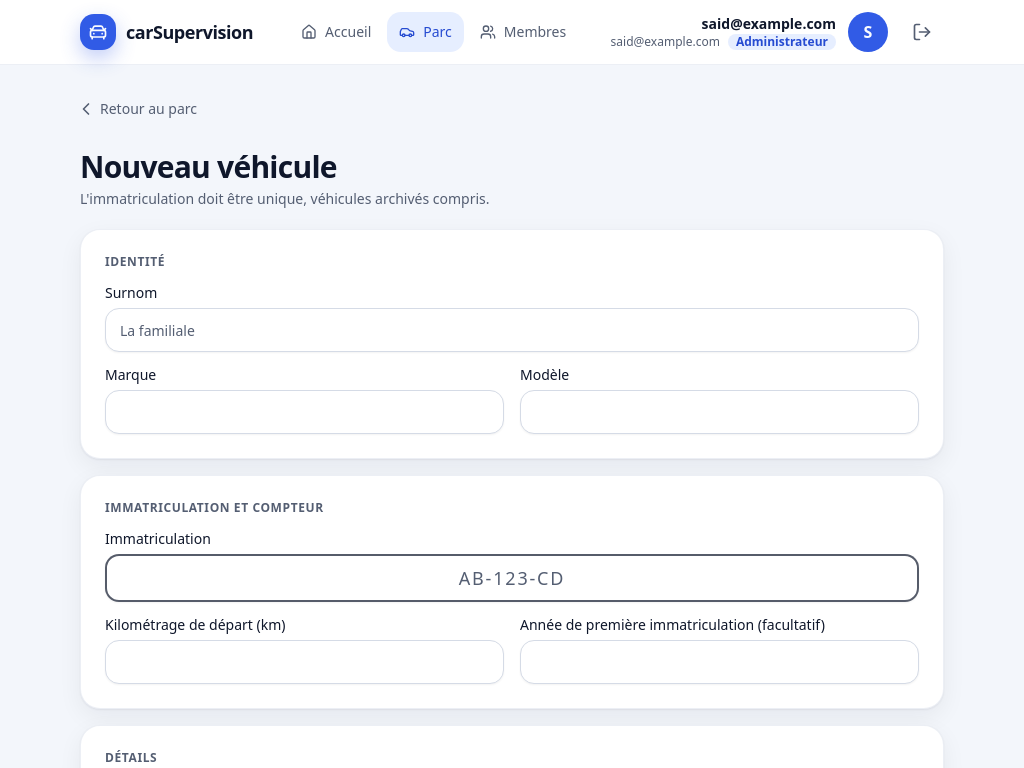
Test case: parc de véhicules › affiche le doublon d’immatriculation sous le champ sans perdre la saisie
In the field labelled "Surnom": (512, 330) x1=105 y1=308 x2=919 y2=352, type "Citadine"
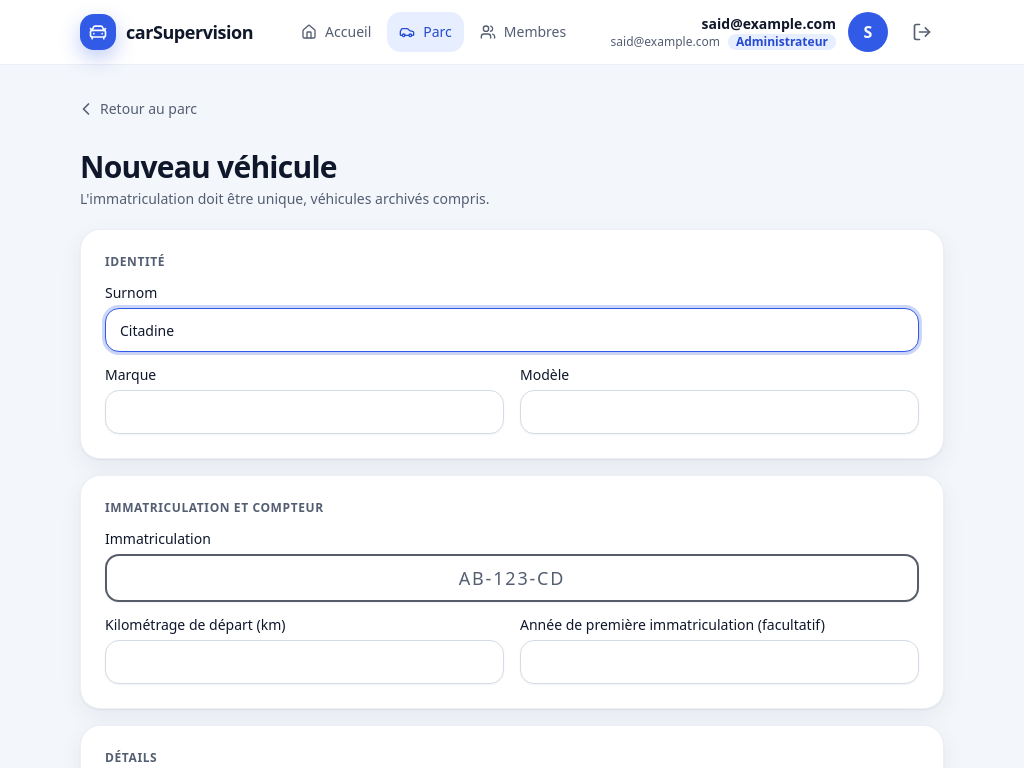
In the field labelled "Marque": (304, 412) x1=105 y1=390 x2=504 y2=434, type "Renault"
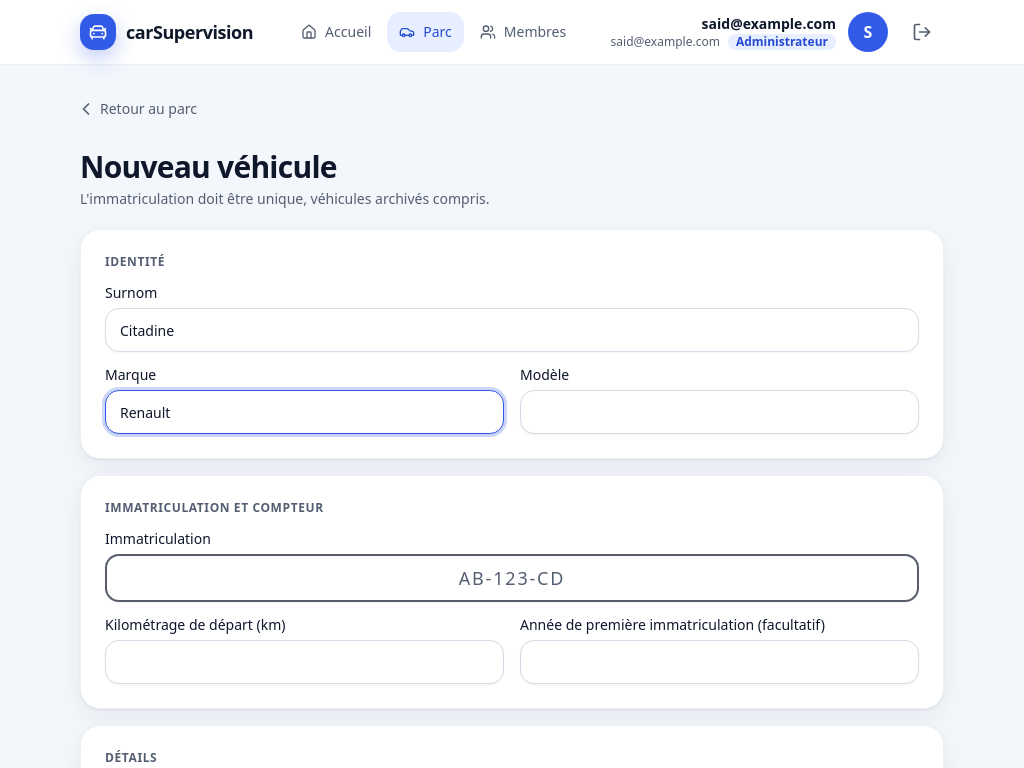
In the field labelled "Modèle": (720, 412) x1=520 y1=390 x2=919 y2=434, type "Clio"
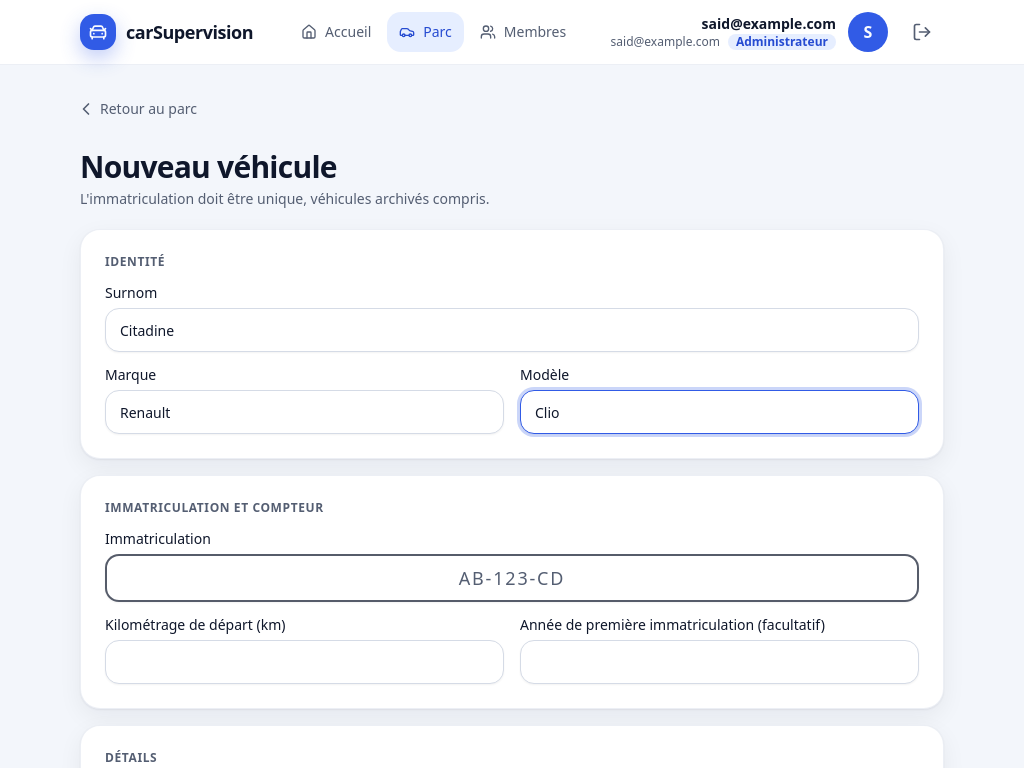
In the field labelled "Immatriculation": (512, 578) x1=105 y1=554 x2=919 y2=602, type "ab-123 cd"
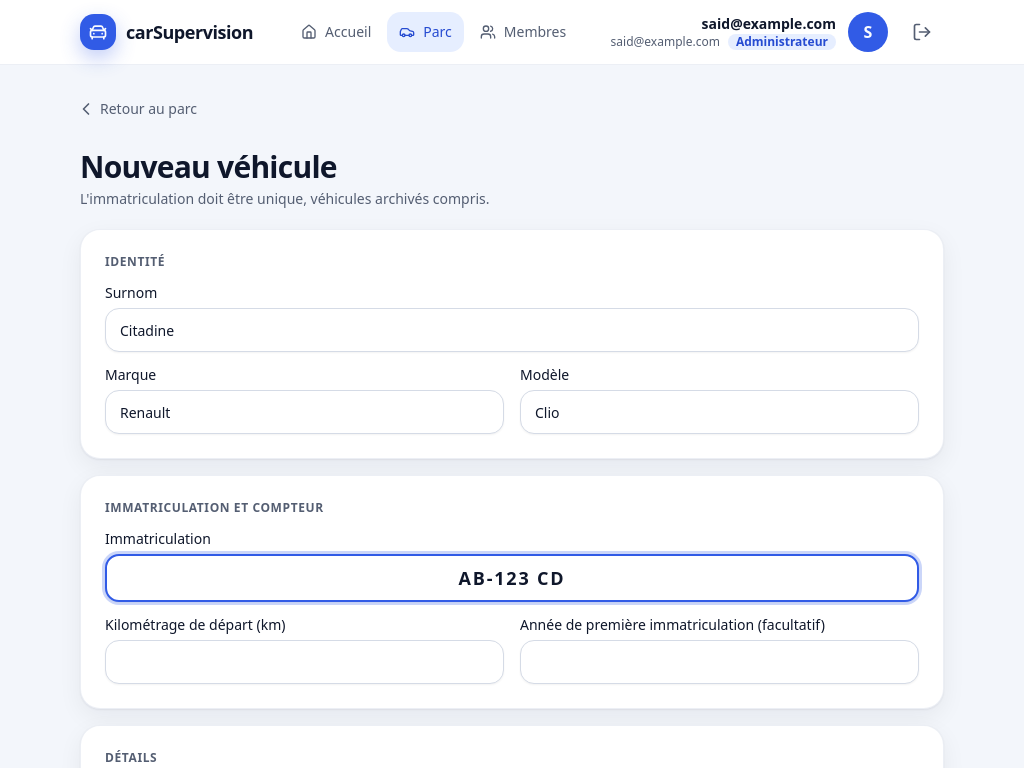
In the field labelled "Kilométrage de départ (km)": (304, 662) x1=105 y1=640 x2=504 y2=684, type "12000"
(page scrolled)
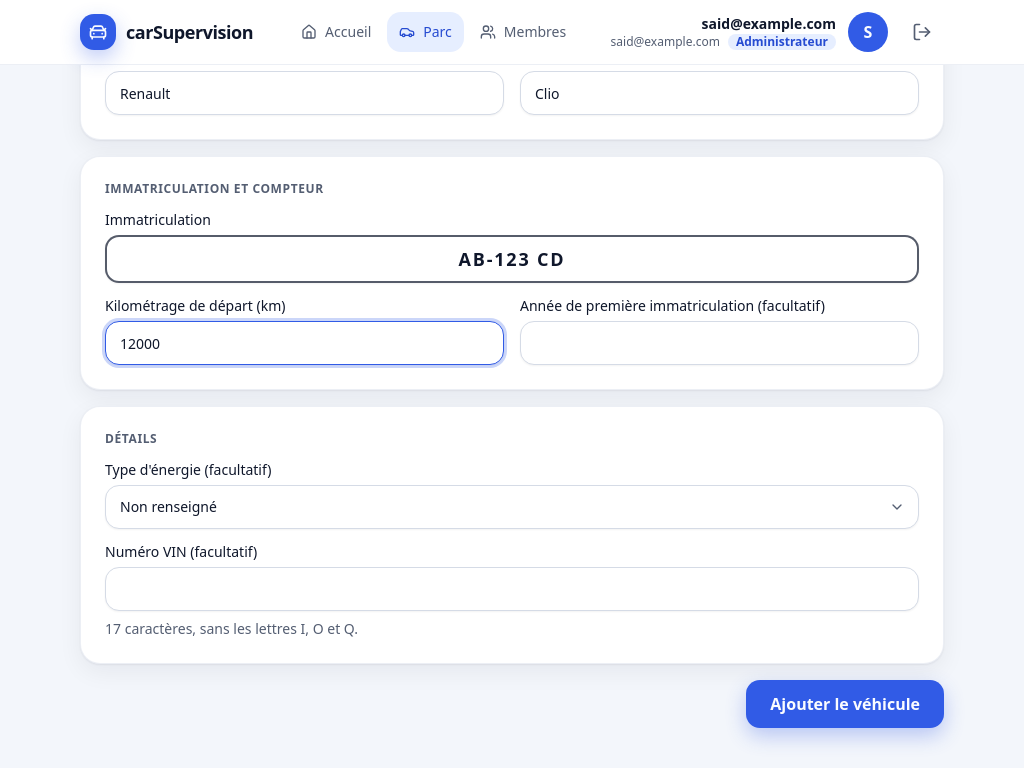
Click the button "Ajouter le véhicule": click(845, 704) x1=746 y1=680 x2=944 y2=728
(page scrolled)
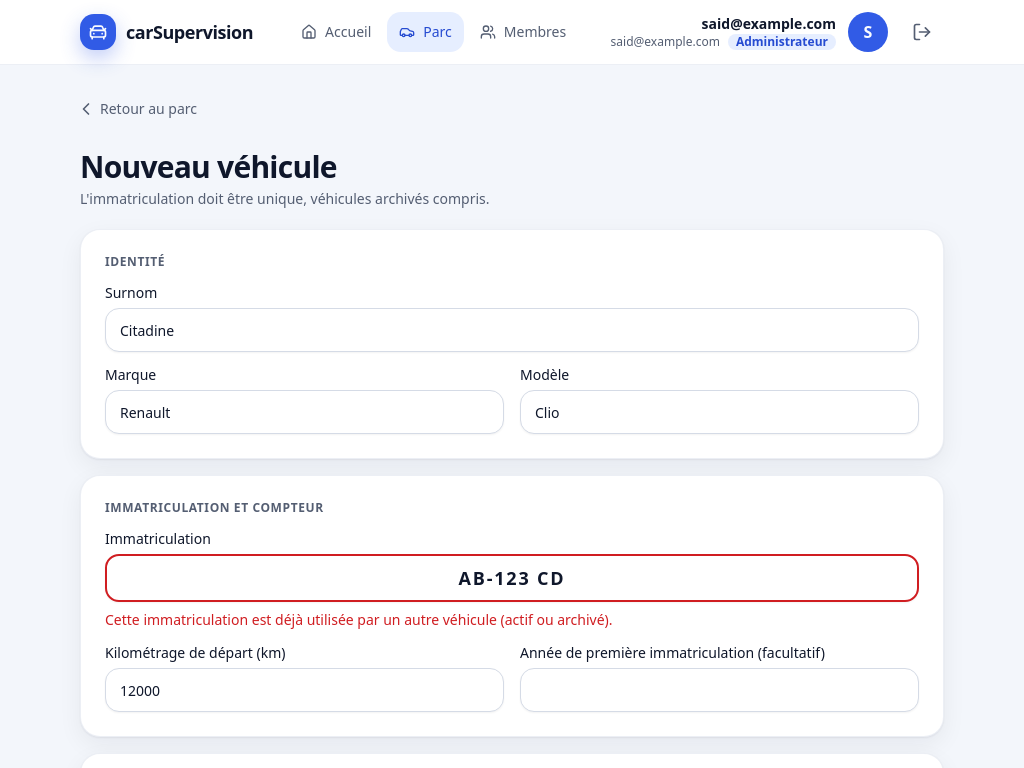
Check: the text "Cette immatriculation est déjà utilisée par un autre véhicule (actif ou archivé)." is shown, box x1=105 y1=610 x2=612 y2=629
